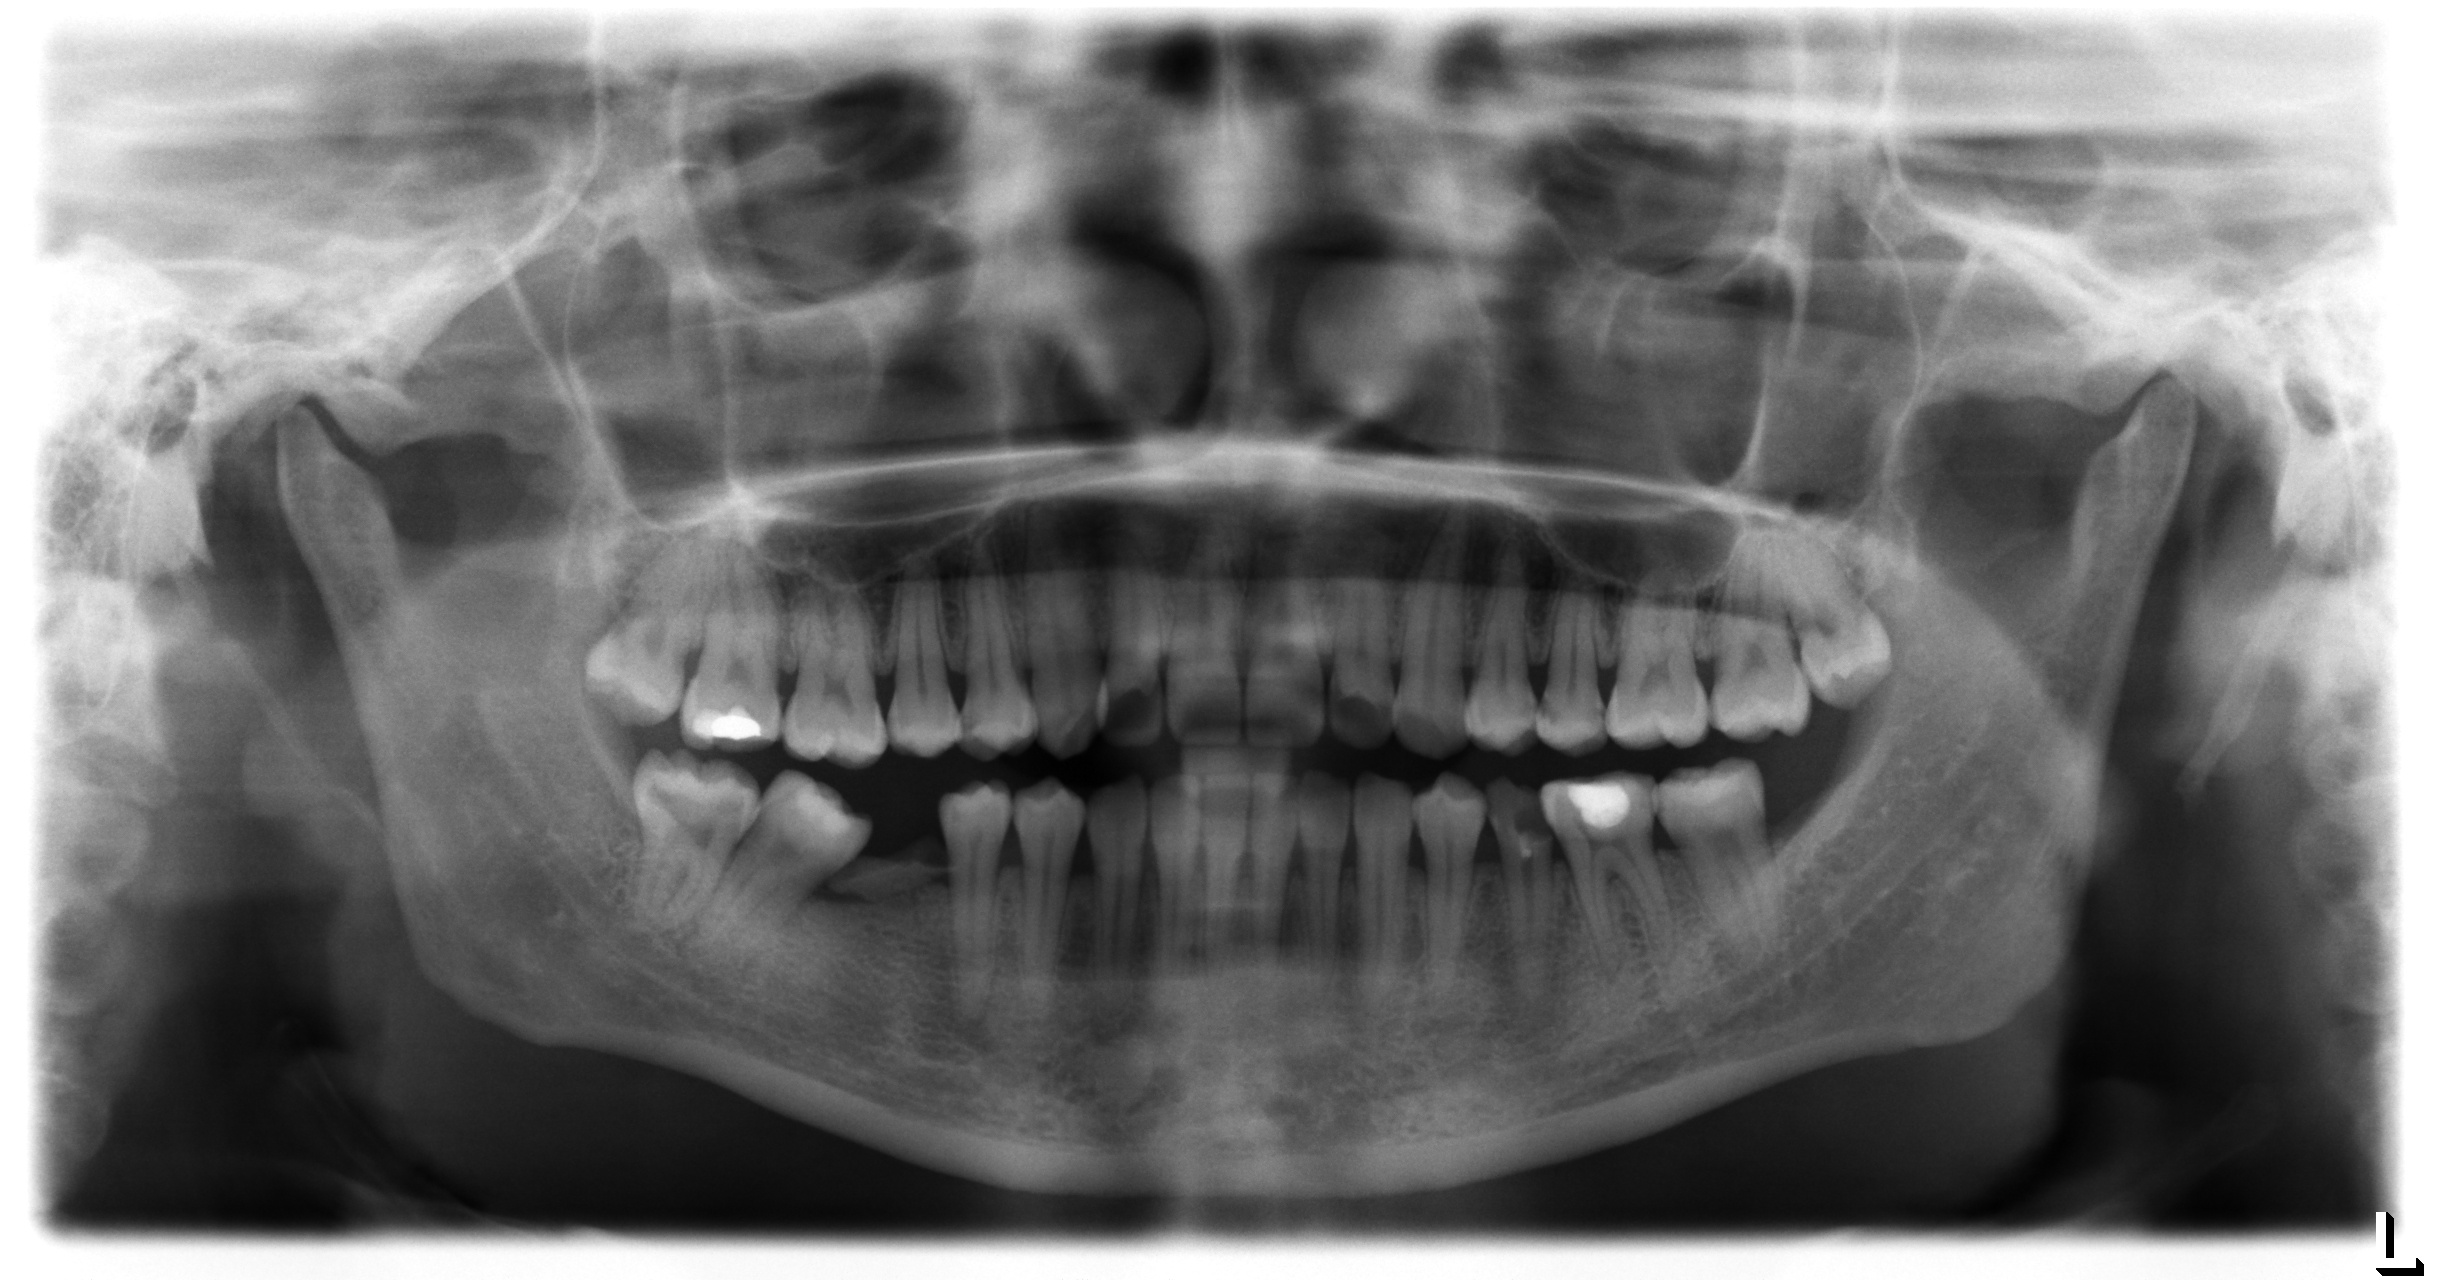Decay: (841, 839, 939, 897), (1486, 775, 1552, 849)
